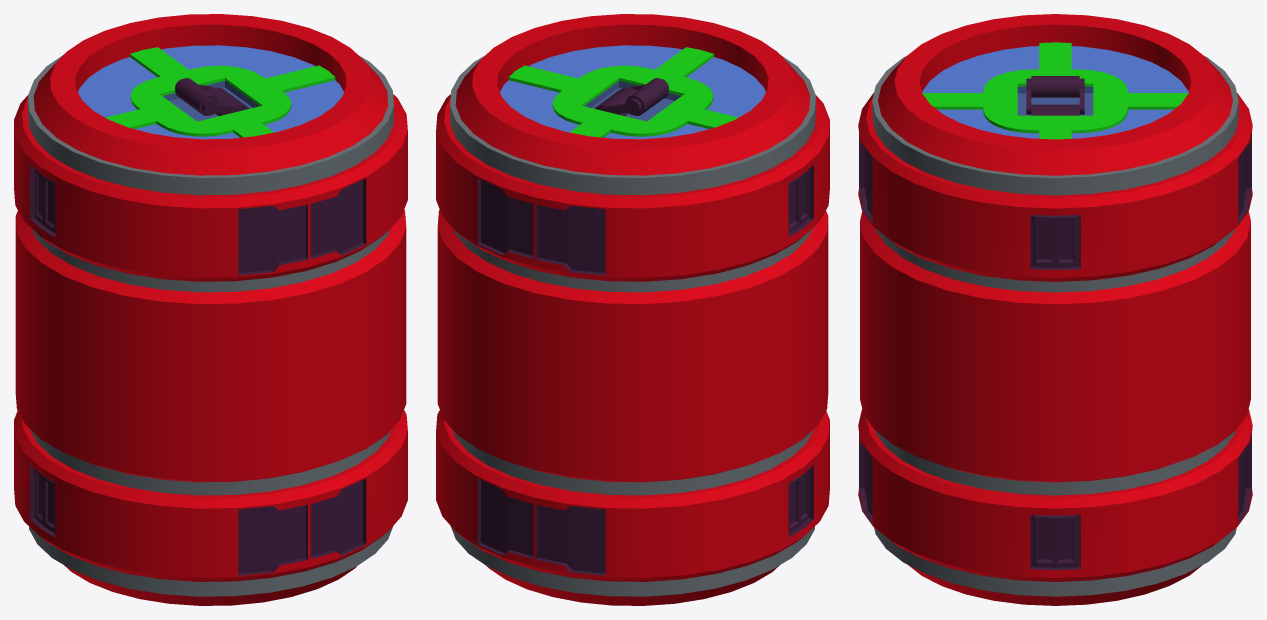
The model's file is barrel.fbx.
The picture shows the model from 3 angles, left to right: view 1: azimuth 30°, elevation 25°; view 2: azimuth 150°, elevation 25°; view 3: azimuth 270°, elevation 25°; orthographic projection.
Parts seen in each view (by area): view 1: barrelLow; view 2: barrelLow; view 3: barrelLow.
Part boxes in pixels (bbox=[...]): barrelLow: bbox=[14, 14, 407, 605]; barrelLow: bbox=[436, 14, 829, 605]; barrelLow: bbox=[858, 14, 1252, 605].
Size of the model in its own units: 201 by 256 by 201.
